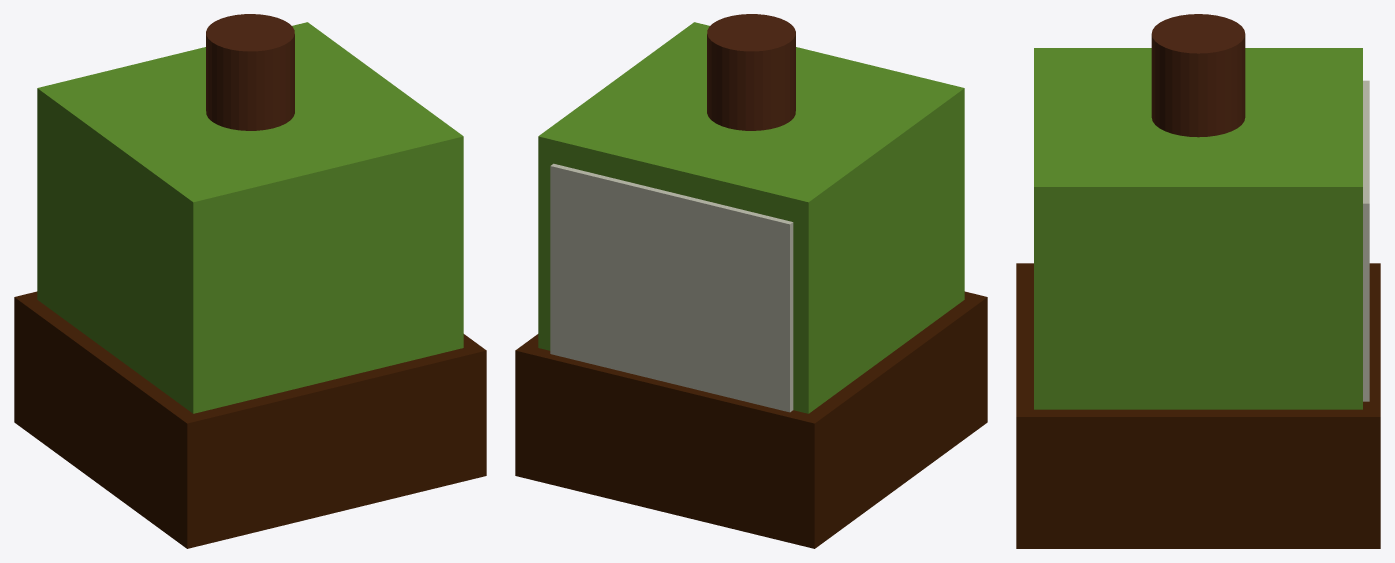
The model's file is UpgradeTable.fbx.
3 views of the same model, side by side, from view 1: azimuth 30°, elevation 25°; view 2: azimuth 150°, elevation 25°; view 3: azimuth 270°, elevation 25° (orthographic). The views are drawn at different scales.
Visible parts, largest first — view 1: MAIN, BASE, TOP; view 2: MAIN, BASE, SCREEN, TOP; view 3: MAIN, BASE, TOP, SCREEN.
Boxes of the visible parts, <box> form: MAIN: <box>37,22,463,413</box>; BASE: <box>14,291,486,548</box>; TOP: <box>206,14,294,130</box>; MAIN: <box>538,22,964,413</box>; BASE: <box>515,291,987,548</box>; SCREEN: <box>550,163,793,412</box>; TOP: <box>707,14,795,130</box>; MAIN: <box>1034,48,1362,409</box>; BASE: <box>1016,263,1380,548</box>; TOP: <box>1151,14,1245,137</box>; SCREEN: <box>1363,80,1369,401</box>.
Bounding box in the file's own units: 100 × 133 × 100.
